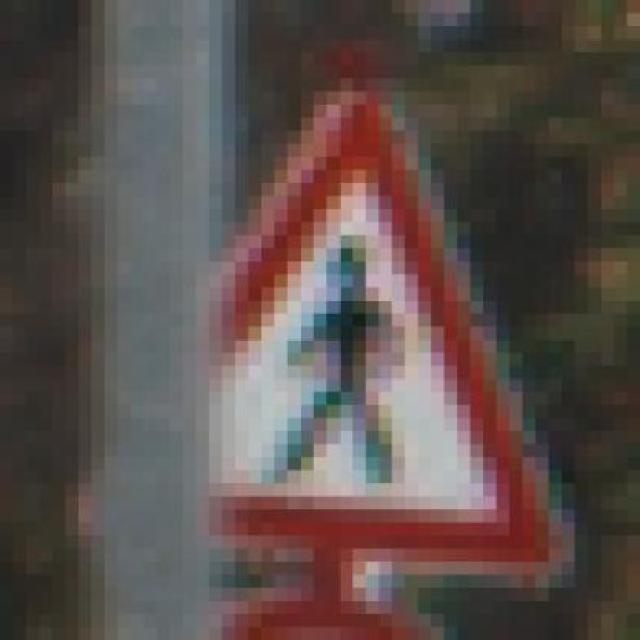Pedestrian Crossing: (114, 63, 586, 572)
